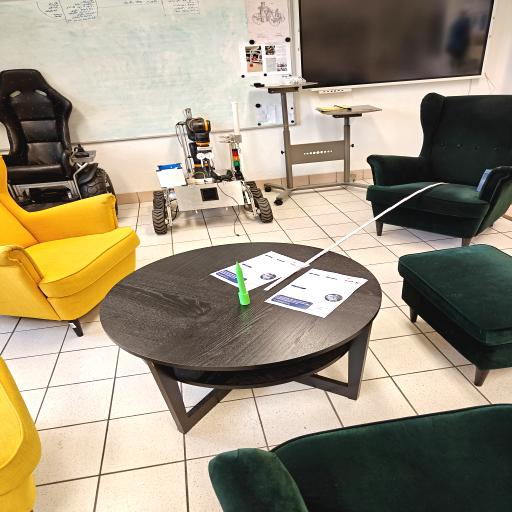Probe-Detection: (236, 262, 250, 305)
